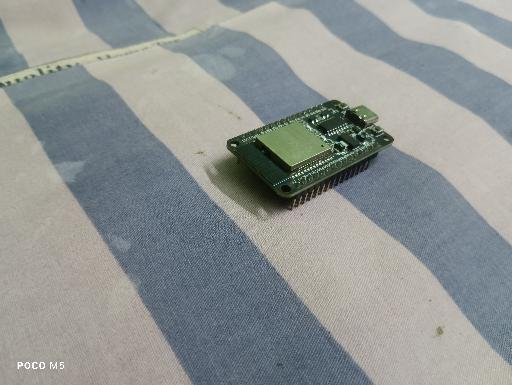Esp32: (226, 99, 394, 212)
